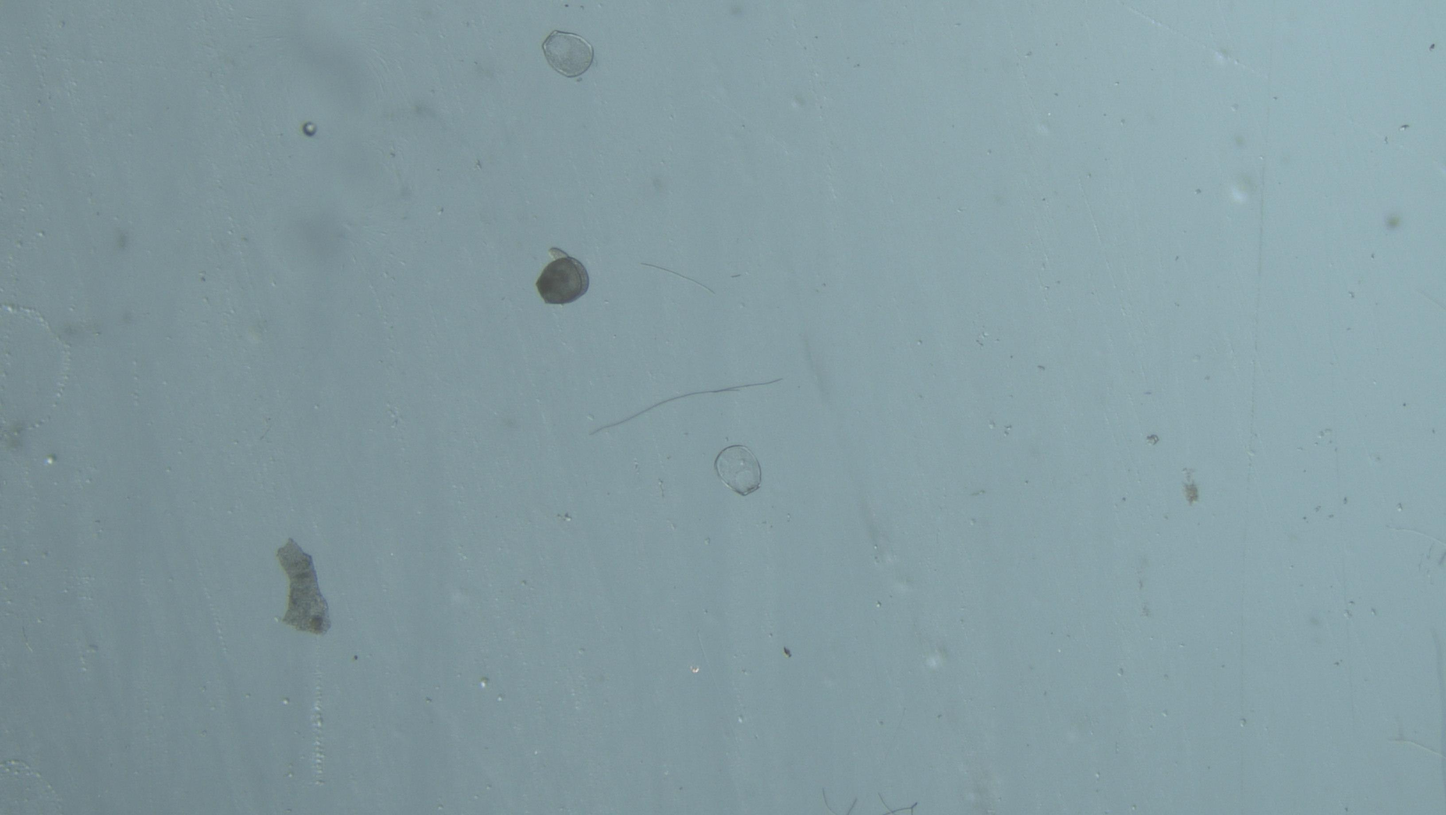dead: (714, 445, 762, 496), (542, 31, 594, 77)
live: (536, 248, 589, 305)
